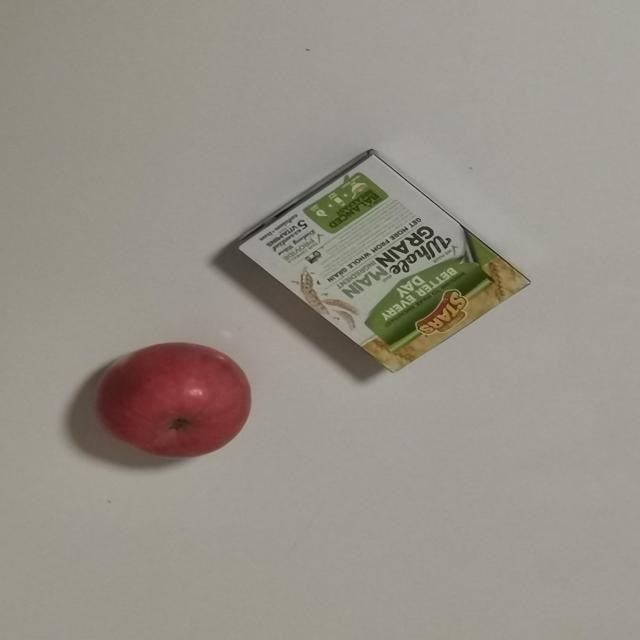Apple: (91, 340, 267, 476)
Cerealbox: (202, 138, 538, 381)
